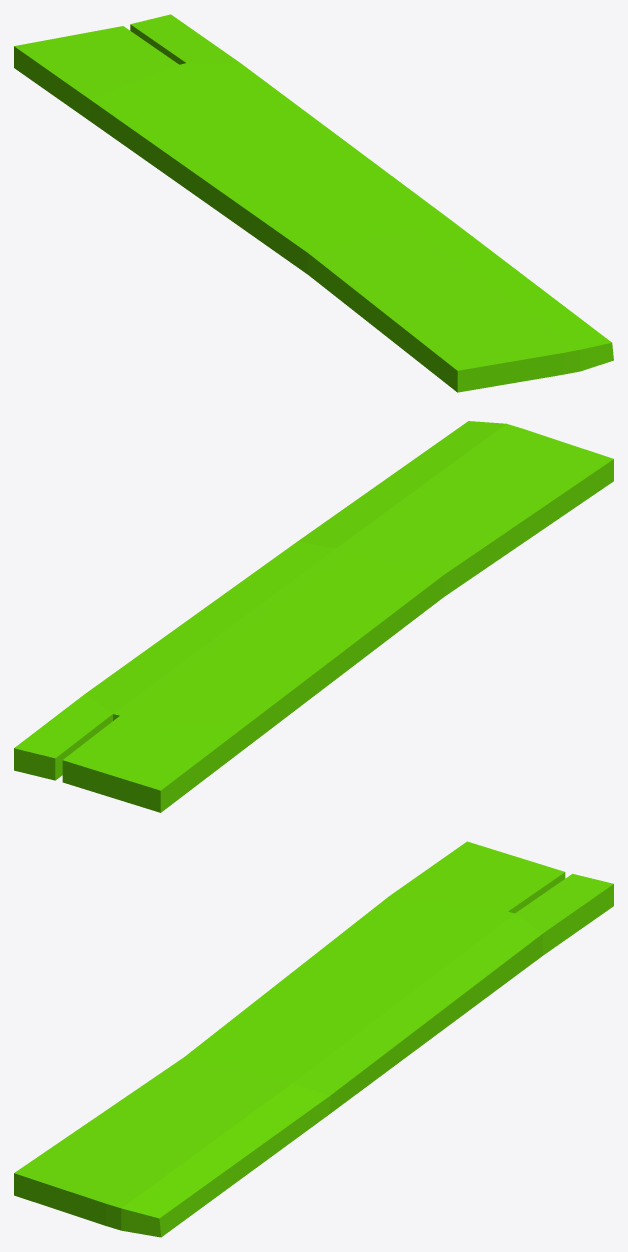
Rendered from F_Board_05.fbx.
3 renders of one model, top to bottom at view 1: azimuth 30°, elevation 25°; view 2: azimuth 150°, elevation 25°; view 3: azimuth 330°, elevation 25°, orthographic. The views are drawn at different scales.
Visible parts, largest first — view 1: F_Board_05; view 2: F_Board_05; view 3: F_Board_05.
Boxes of the visible parts, x1=… form: F_Board_05: x1=14, y1=14, x2=613, y2=392; F_Board_05: x1=14, y1=421, x2=613, y2=812; F_Board_05: x1=14, y1=841, x2=613, y2=1237.
Size of the model in its own units: 14.75 by 2.23 by 76.04.
